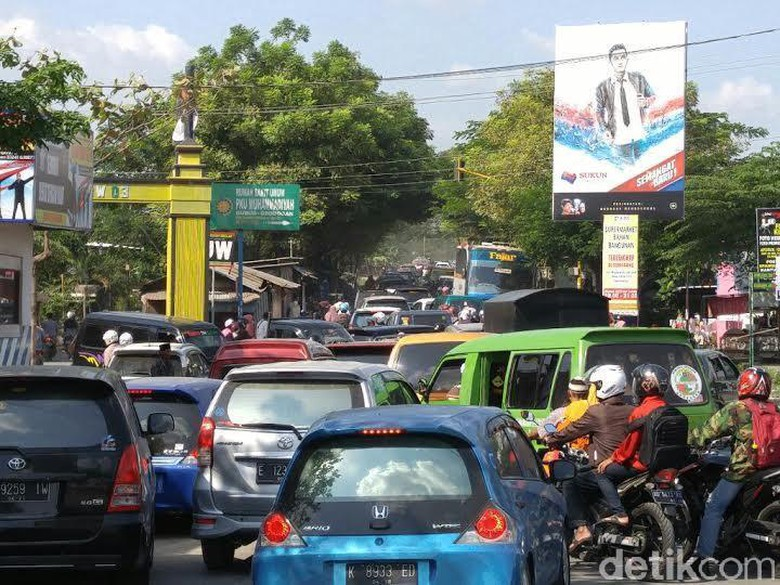plate: (347, 560, 416, 585)
